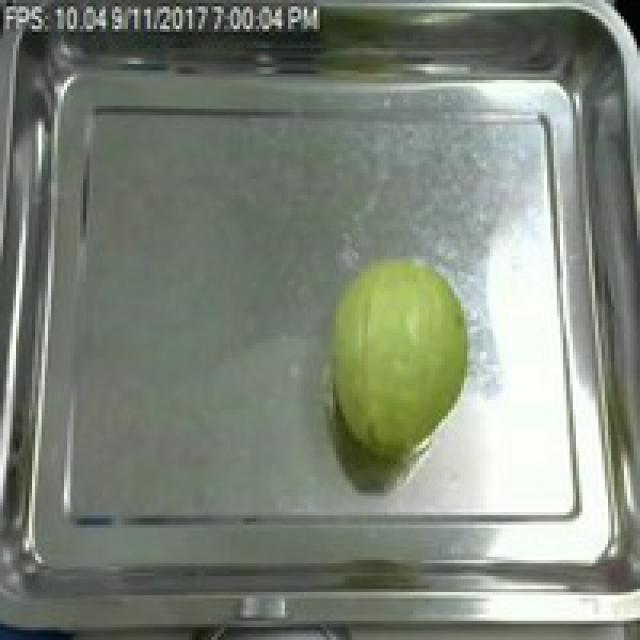Fruit: (317, 243, 480, 461)
